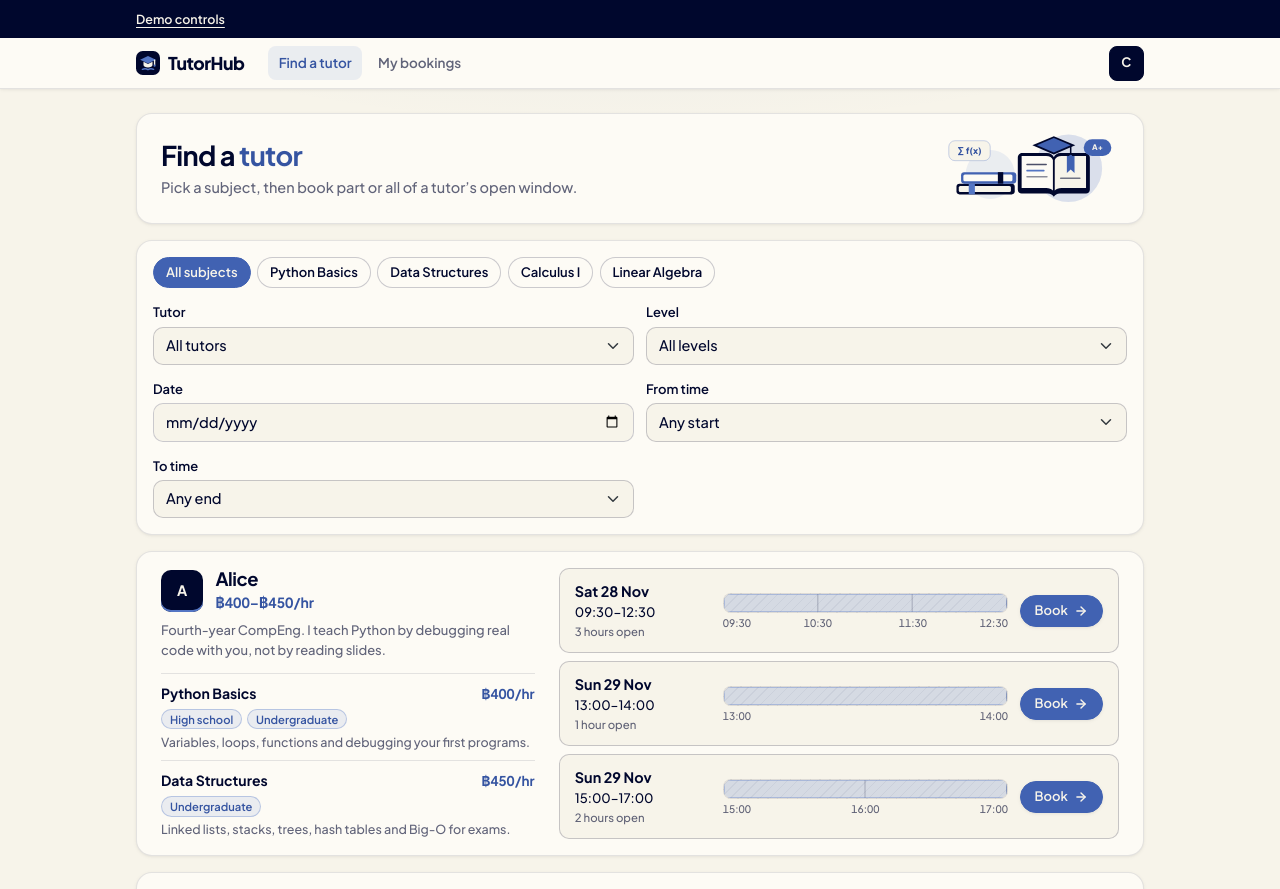
Scenario: booking modal slot picker, subject pricing and files › shows what the tutor covers in the chosen subject
Click the button with aria-label "Book Alice on" at (1061, 611), box top-left (1020, 595), bottom-right (1103, 627)
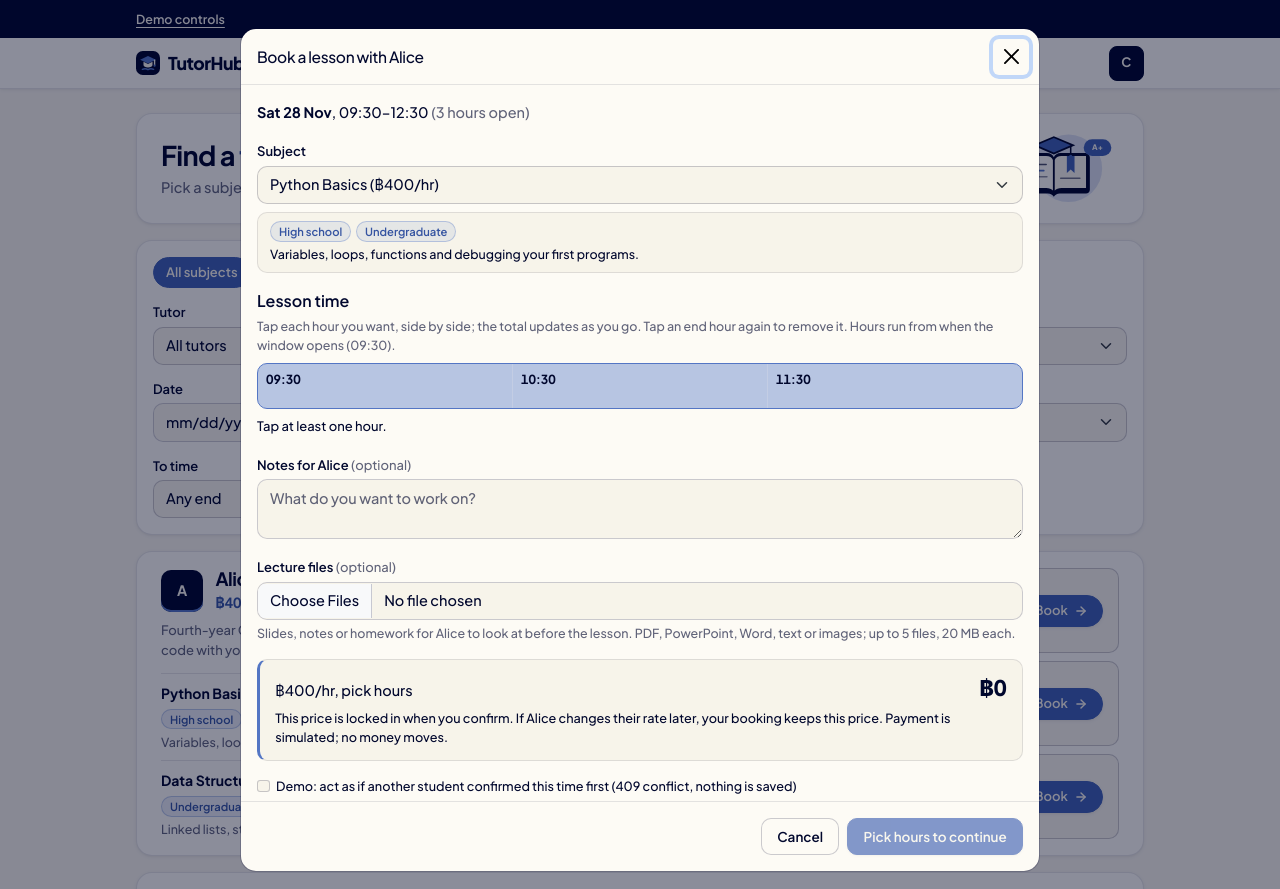
Expected: the text "Variables, loops, functions" is shown, top-left (270, 246), bottom-right (639, 262)
Select "Data Structures (฿450/hr)" in the dropdown labelled "Subject" at (640, 185), box top-left (257, 166), bottom-right (1023, 204)
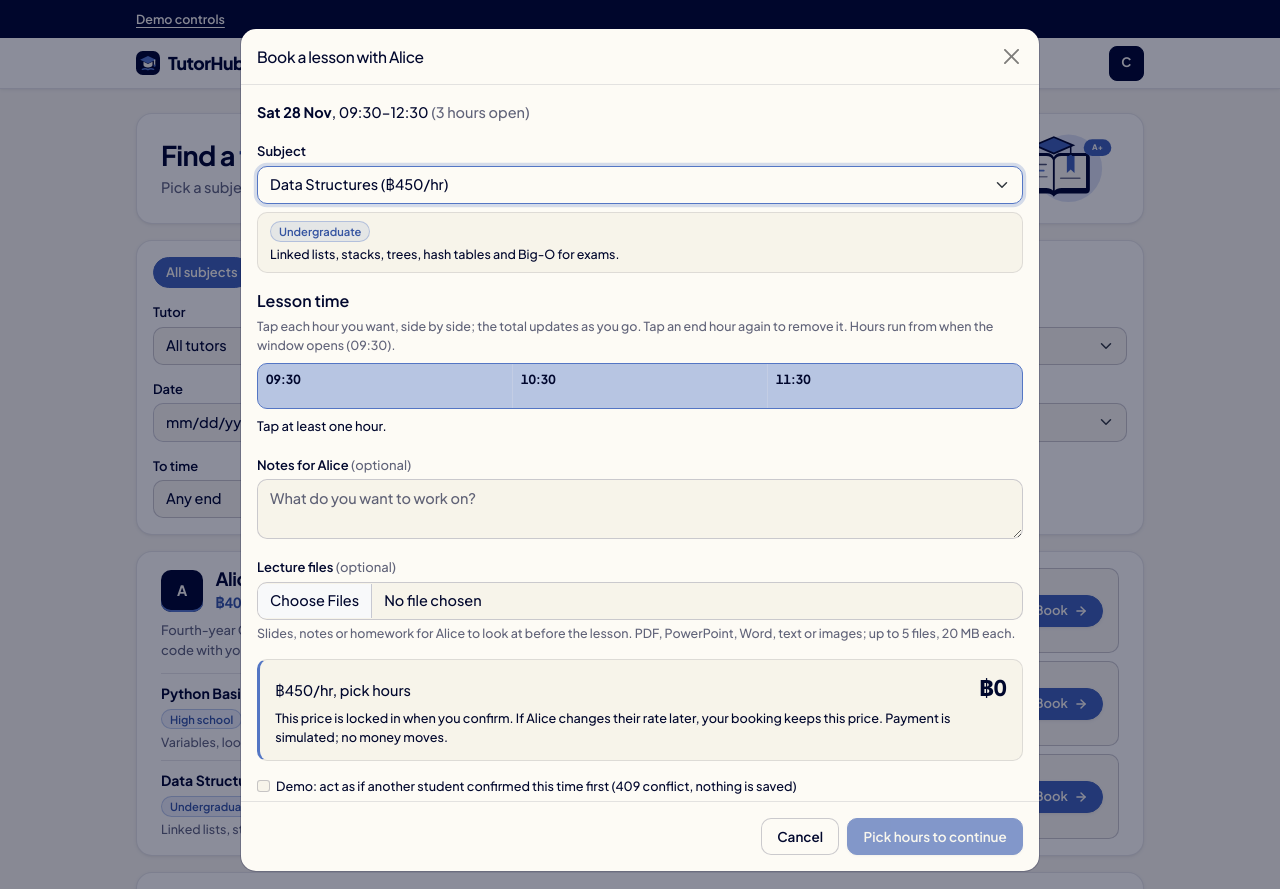
Expected: the text "Linked lists, stacks, trees" is shown, top-left (270, 246), bottom-right (619, 262)
